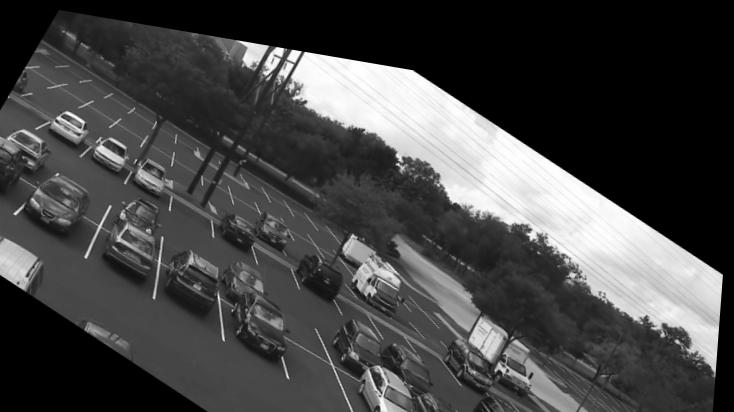empty: (153, 347, 236, 412), (294, 326, 361, 401), (170, 186, 218, 231), (66, 158, 117, 200), (415, 326, 462, 365), (4, 91, 52, 128), (289, 290, 323, 336), (374, 302, 420, 336), (259, 238, 299, 275), (401, 277, 439, 308), (29, 85, 68, 114), (342, 285, 380, 314), (519, 384, 557, 412), (174, 223, 210, 252), (109, 118, 147, 145), (204, 169, 238, 198), (81, 100, 118, 126), (172, 150, 205, 179), (444, 371, 480, 397), (142, 135, 174, 162), (293, 221, 326, 246), (323, 235, 354, 261), (91, 94, 124, 118), (50, 82, 87, 103), (24, 64, 59, 86), (146, 128, 179, 151), (202, 157, 230, 184), (119, 111, 152, 133), (244, 161, 269, 189), (152, 113, 179, 138), (230, 173, 259, 196), (177, 141, 203, 166), (76, 105, 104, 128), (258, 186, 284, 210), (286, 205, 314, 227), (313, 219, 341, 241), (234, 185, 261, 207), (37, 63, 70, 81), (130, 101, 159, 121), (270, 180, 294, 204), (66, 80, 96, 99), (34, 49, 70, 64), (314, 207, 340, 227), (177, 125, 200, 147), (293, 194, 316, 215), (110, 88, 134, 108), (62, 63, 89, 79), (85, 77, 111, 93), (289, 234, 316, 246), (218, 195, 239, 206)
occupied: (27, 166, 97, 236), (232, 279, 293, 353), (353, 350, 423, 412), (0, 231, 62, 298), (105, 210, 161, 278), (170, 240, 222, 313), (446, 322, 506, 379), (354, 240, 405, 303), (383, 326, 439, 380), (78, 308, 139, 355), (296, 242, 347, 298), (335, 305, 386, 356), (0, 131, 35, 197), (415, 376, 468, 412), (481, 378, 535, 412), (224, 253, 267, 294), (8, 128, 53, 167), (49, 108, 92, 146), (220, 204, 259, 245), (256, 201, 295, 240), (134, 152, 168, 191), (93, 133, 129, 169), (126, 194, 161, 224)
